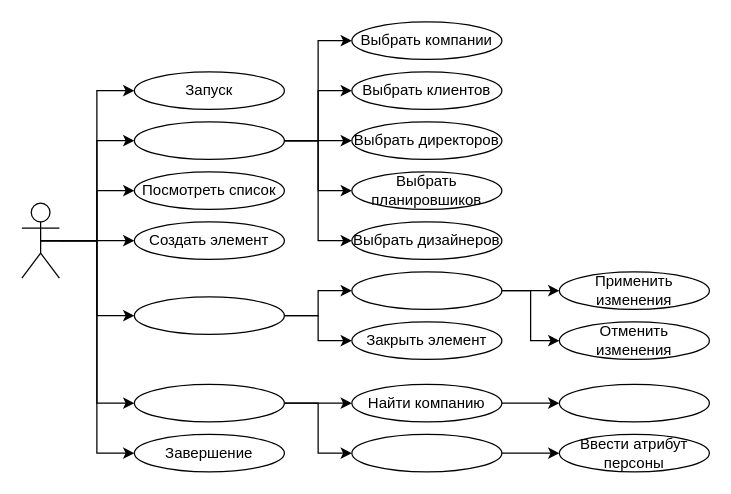
Some shapes in this 731 by 494 pixel diagram are drawn without their labels. The centre of each missing label's shape, as x and y in pixels:
"Actor" belongs at point (40, 240).
"Ввести атрибут компании" belongs at point (633, 402).
"Выбрать список" belongs at point (208, 140).
"Найти персону" belongs at point (426, 452).
"Открыть элемент" belongs at point (208, 315).
"Поиск" belongs at point (208, 402).
"Редактировать атрибут" belongs at point (426, 290).
